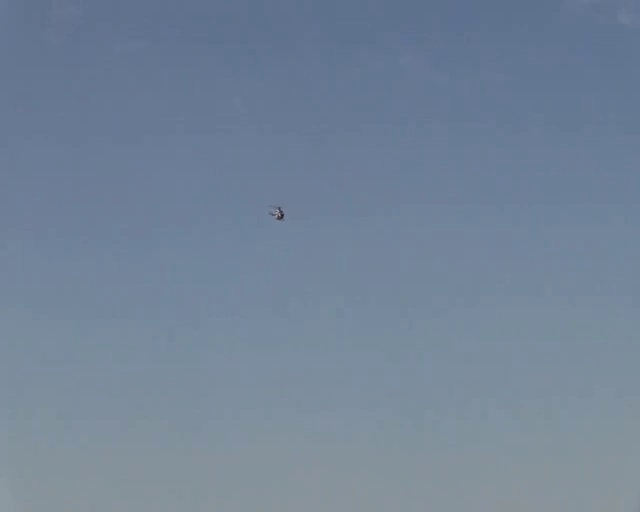HELICOPTER: (268, 205, 284, 220)
